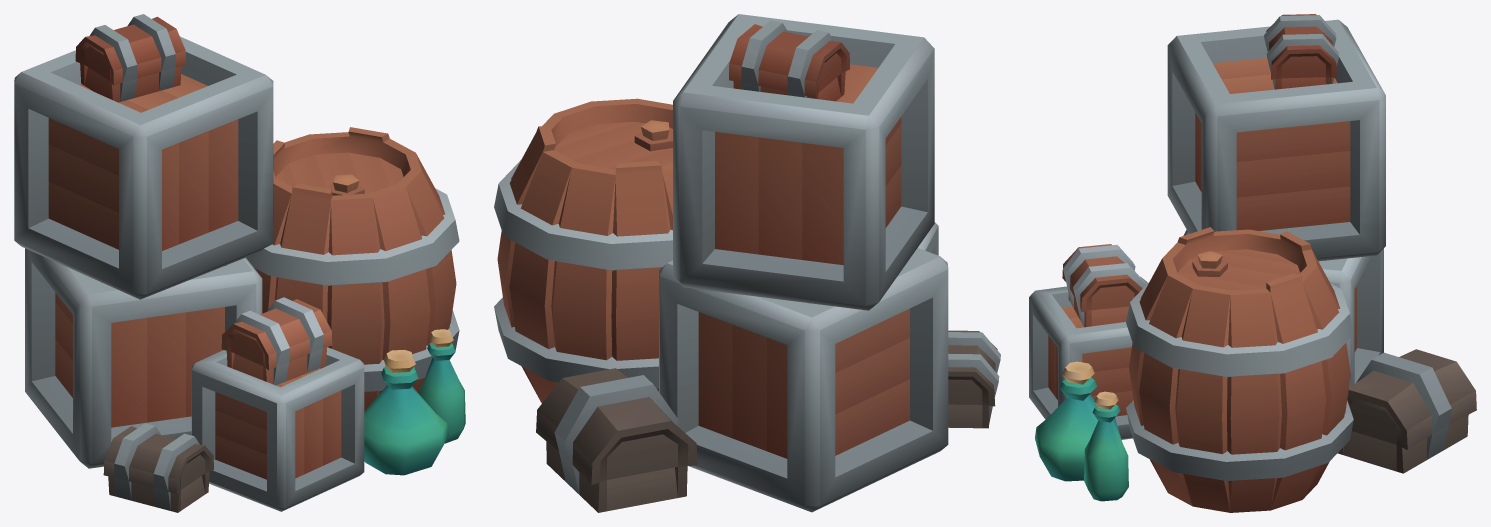
The model's file is box_stacked.glb.
3 renders of one model, left to right at view 1: azimuth 30°, elevation 25°; view 2: azimuth 150°, elevation 25°; view 3: azimuth 270°, elevation 25°, orthographic. The views are drawn at different scales.
Parts seen in each view (by area): view 1: box_stacked; view 2: box_stacked; view 3: box_stacked.
Boxes of the visible parts, <box> form: box_stacked: <box>14,14,465,512</box>; box_stacked: <box>494,14,1000,512</box>; box_stacked: <box>1029,14,1476,512</box>.
Bounding box in the file's own units: 3.48 × 3.31 × 3.63.
Materials: 1 (1 with a texture image).
